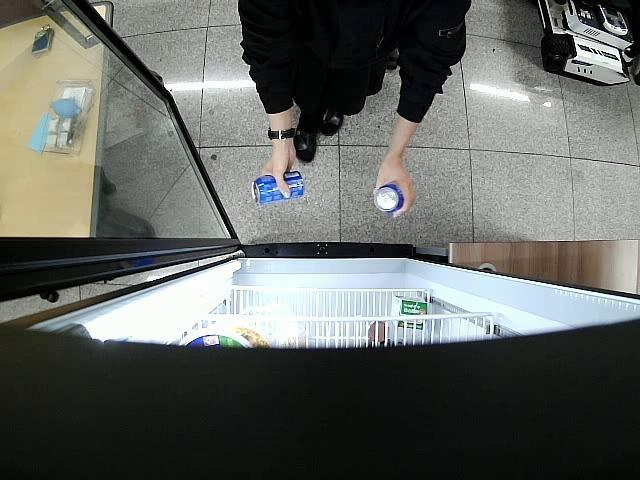13_pocariSweat: (252, 170, 305, 204), (372, 185, 403, 214)
